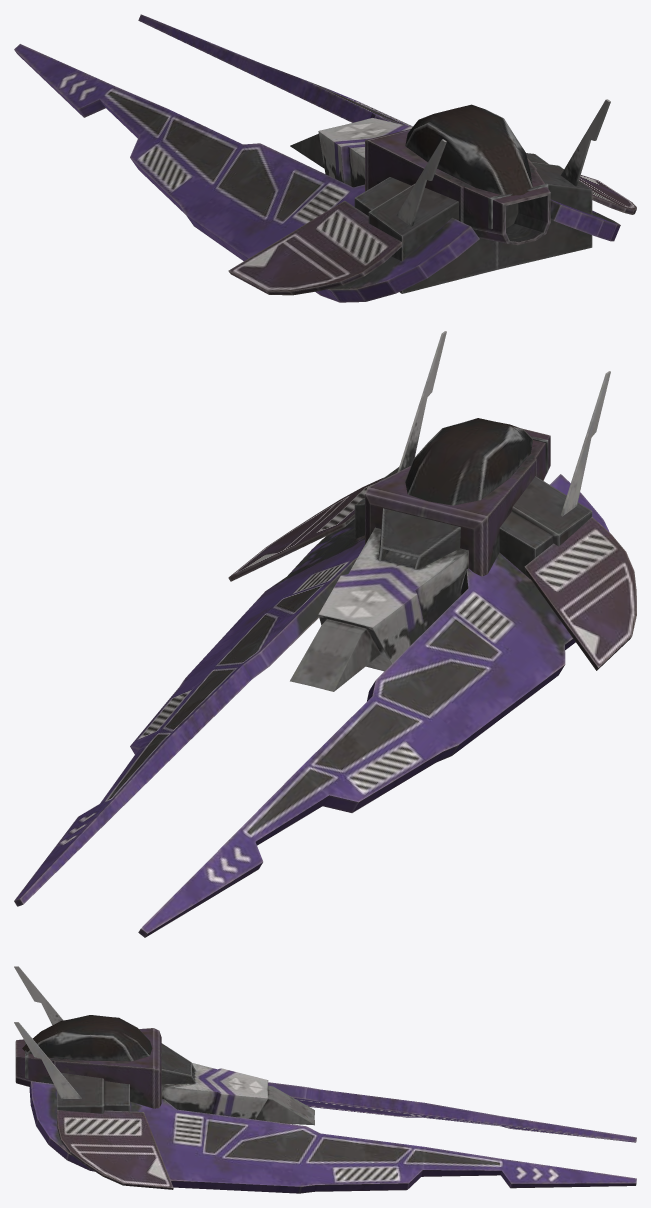
File: dispatcher_purple.glb
3 views of the same model, one above another, from view 1: azimuth 30°, elevation 25°; view 2: azimuth 150°, elevation 25°; view 3: azimuth 270°, elevation 25° (orthographic). The views are drawn at different scales.
Parts seen in each view (by area): view 1: dispatcher_purple; view 2: dispatcher_purple; view 3: dispatcher_purple.
Part boxes in pixels (box(x1,y1,x2,y2)): dispatcher_purple: box(14, 14, 636, 302); dispatcher_purple: box(14, 331, 636, 937); dispatcher_purple: box(14, 966, 636, 1193).
Size of the model in its own units: 0.4778 by 0.3007 by 1.
1 material, 1 textured.
